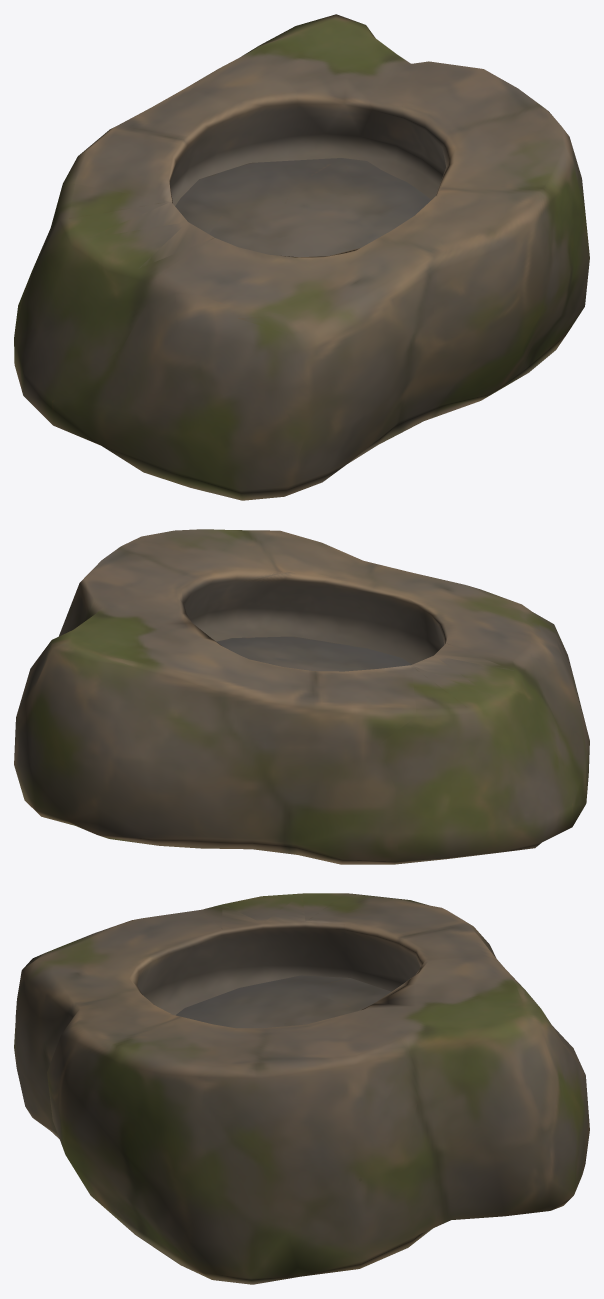
Rendered from pila_ofrenda.glb.
3 renders of one model, top to bottom at view 1: azimuth 30°, elevation 25°; view 2: azimuth 150°, elevation 25°; view 3: azimuth 270°, elevation 25°, orthographic. The views are drawn at different scales.
Parts seen in each view (by area): view 1: pila_ofrenda; view 2: pila_ofrenda; view 3: pila_ofrenda.
Boxes of the visible parts, bbox=[...] form: pila_ofrenda: bbox=[14, 14, 589, 500]; pila_ofrenda: bbox=[14, 529, 589, 864]; pila_ofrenda: bbox=[14, 893, 589, 1284].
Bounding box in the file's own units: 0.347 × 0.1485 × 0.3329.
Materials: 1 (1 with a texture image).
